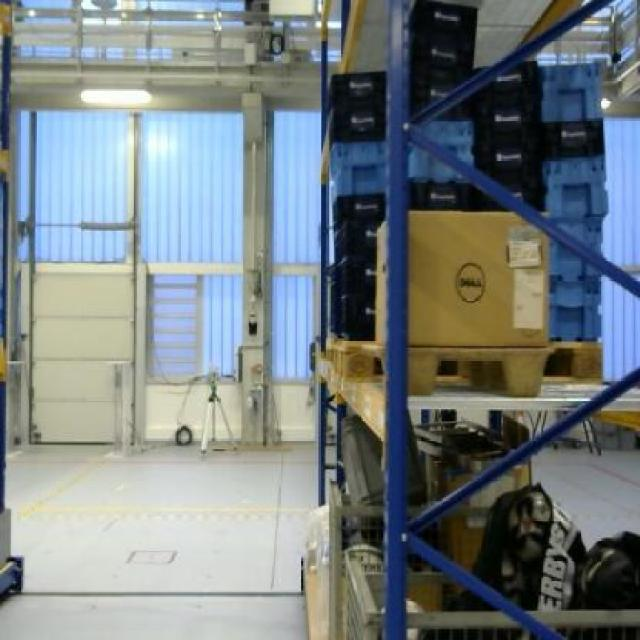box: (408, 211, 550, 347)
